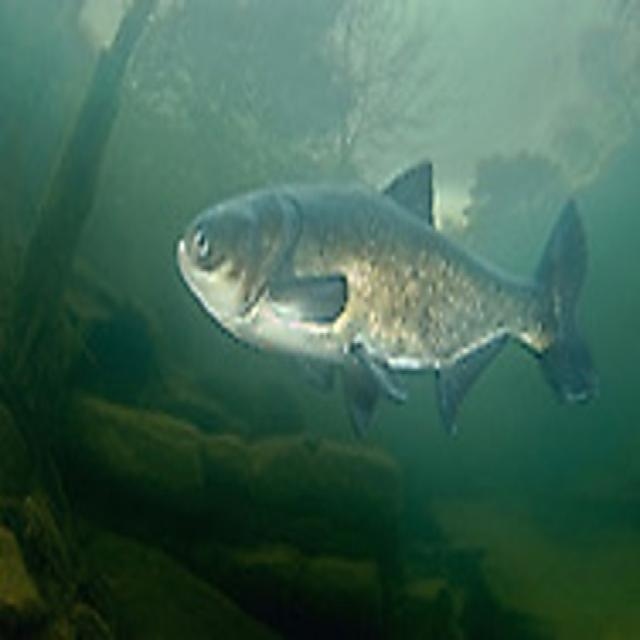Big-Head-Carp: (156, 109, 614, 515)
